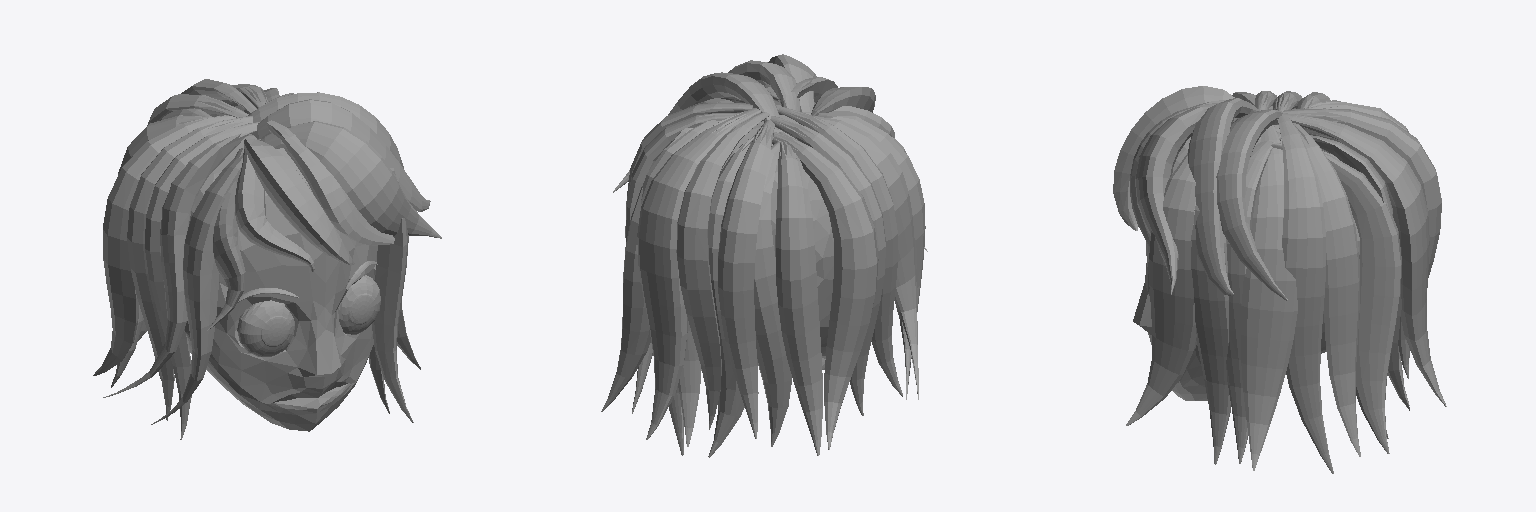
The model's file is head.obj.
The picture shows the model from 3 angles: view 1: azimuth 30°, elevation 25°; view 2: azimuth 150°, elevation 25°; view 3: azimuth 270°, elevation 25°; orthographic projection.
Visible parts, largest first — view 1: NurbsPath.009_NurbsPath.000, Character_Cube.000; view 2: NurbsPath.009_NurbsPath.000, Character_Cube.000; view 3: NurbsPath.009_NurbsPath.000, Character_Cube.000.
Boxes of the visible parts, <box> form: NurbsPath.009_NurbsPath.000: <box>93,79,441,439</box>; Character_Cube.000: <box>184,134,380,431</box>; NurbsPath.009_NurbsPath.000: <box>601,54,927,457</box>; Character_Cube.000: <box>721,103,833,369</box>; NurbsPath.009_NurbsPath.000: <box>1113,86,1446,473</box>; Character_Cube.000: <box>1133,109,1359,400</box>.
Bounding box in the file's own units: 5.17 × 5.45 × 4.91.